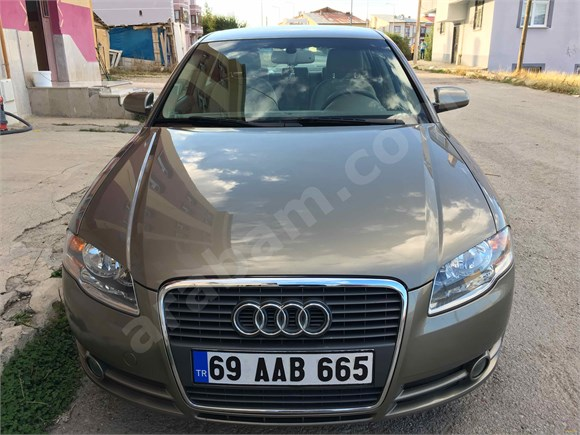audi: (226, 300, 332, 338)
